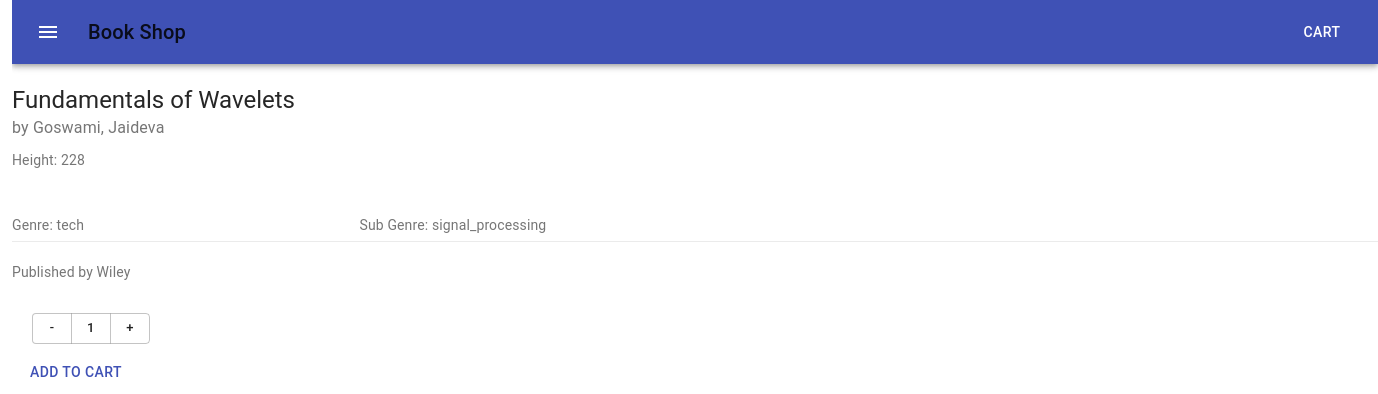
it: increments/decrements items on clicking counter
expect the heading "Fundamentals of Wavelets" is shown: met, box 12,86 -> 295,114
Click the button "+" at (130, 328), box 110,313 -> 150,344
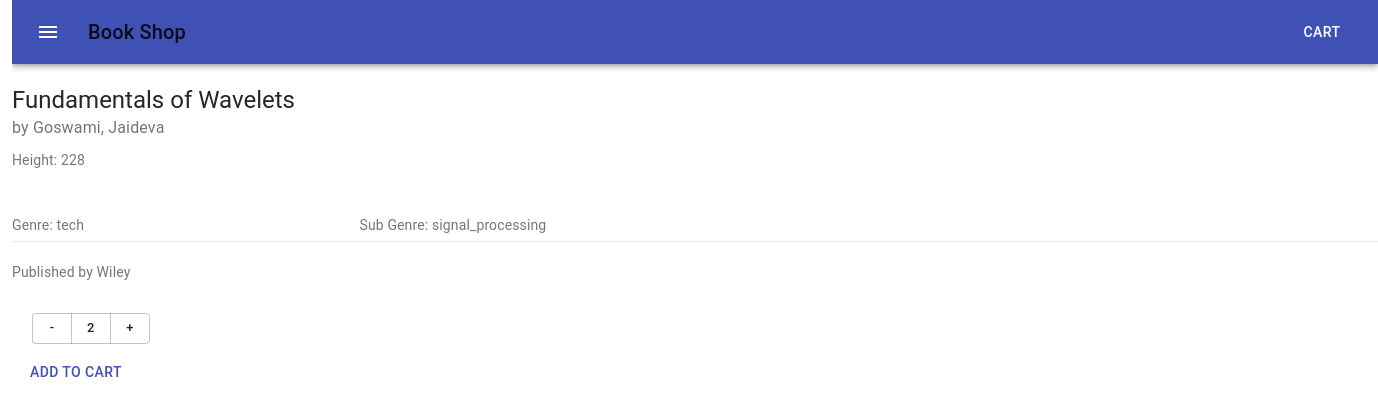
expect the button "2" is shown: met, box 71,313 -> 111,344
Click the button "-" at (52, 328), box 32,313 -> 72,344
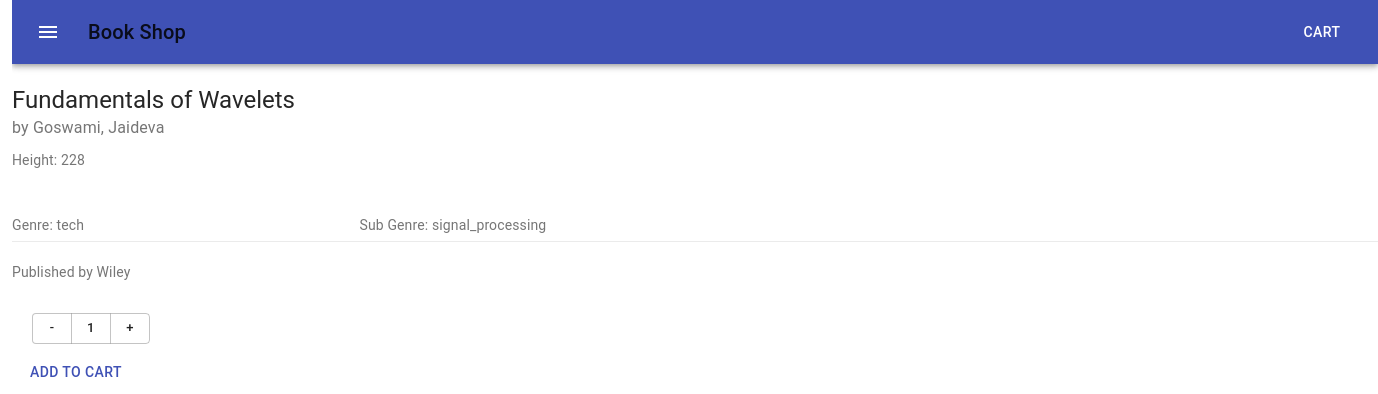
expect the button "1" is shown: met, box 71,313 -> 111,344
